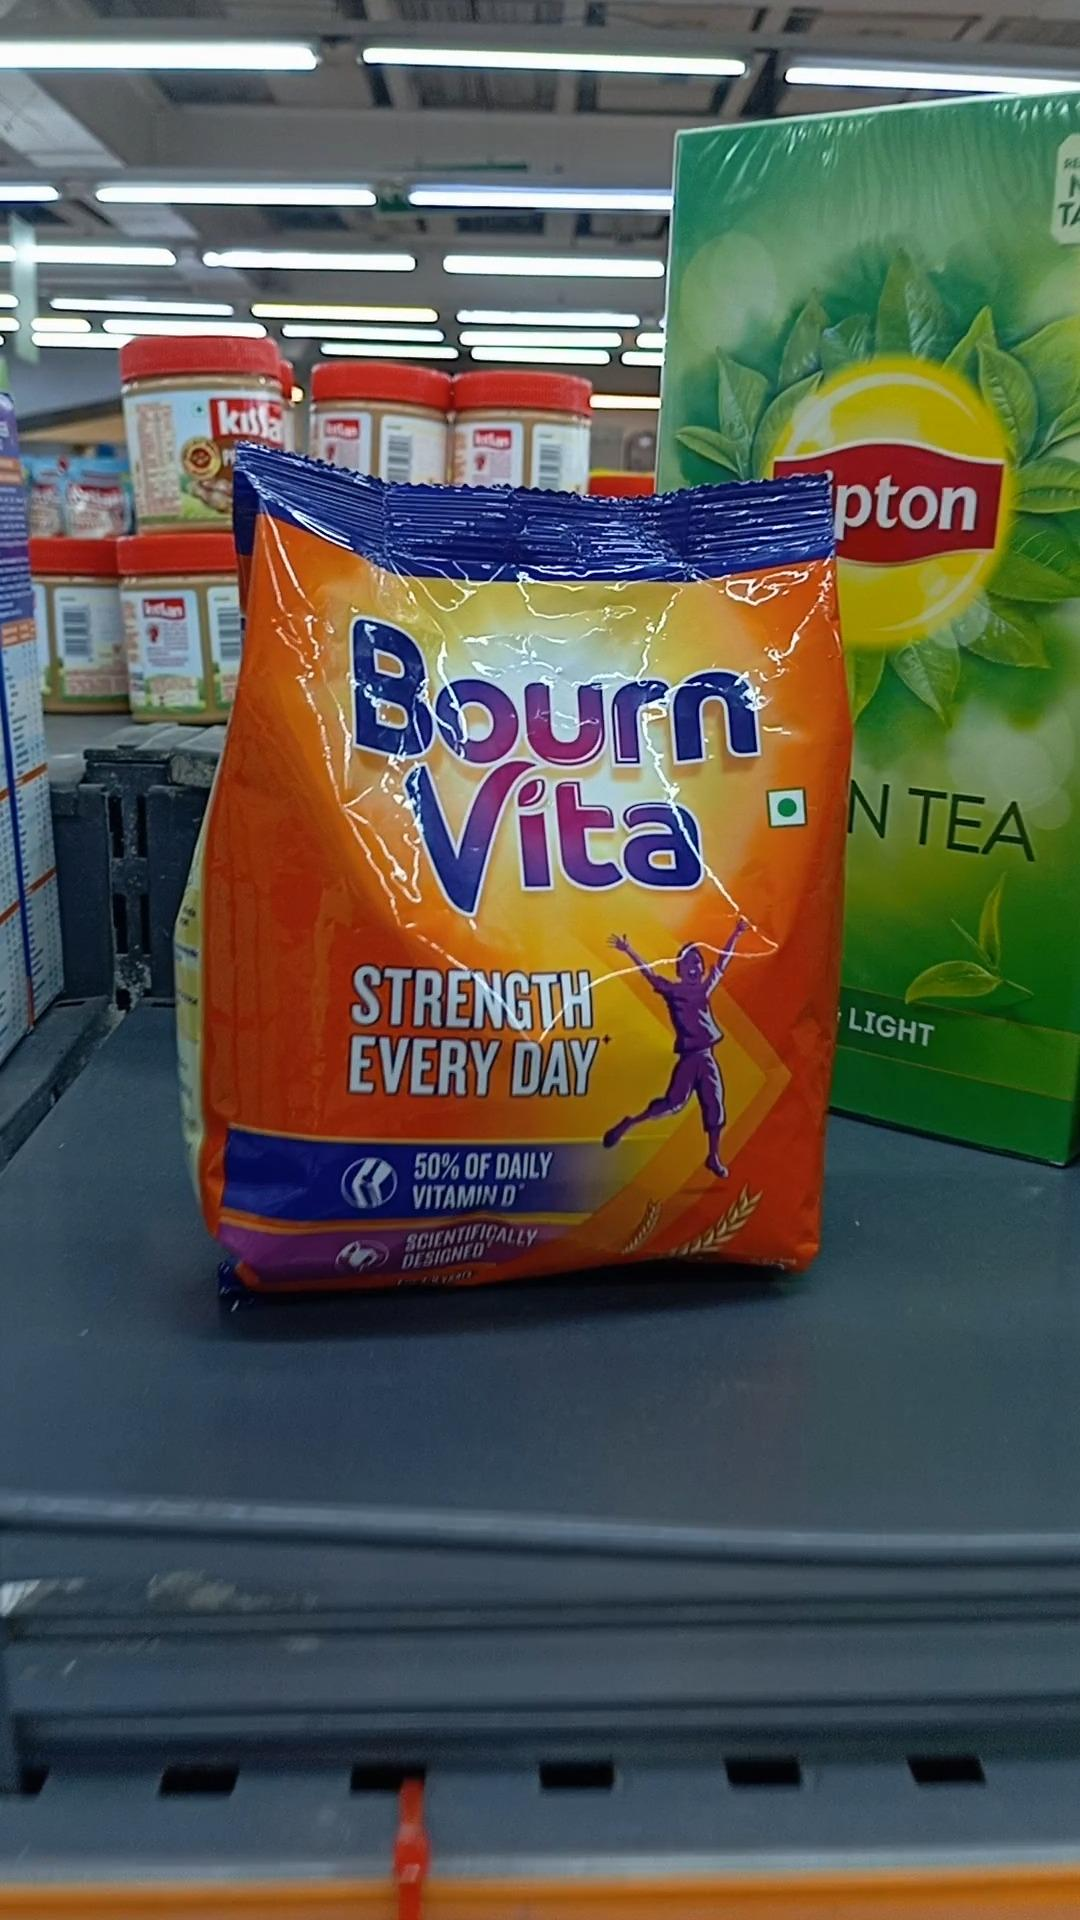BOURN_VITA_500_G_POUCH: (214, 455, 837, 1280)
